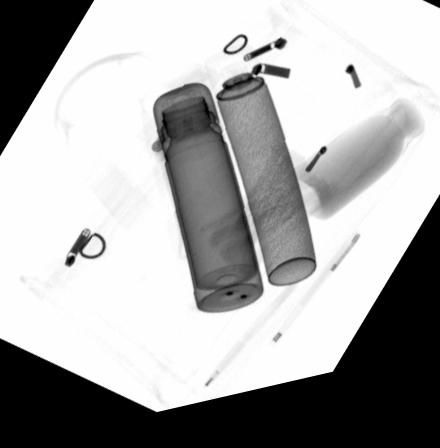Sprayer: (200, 52, 316, 300)
